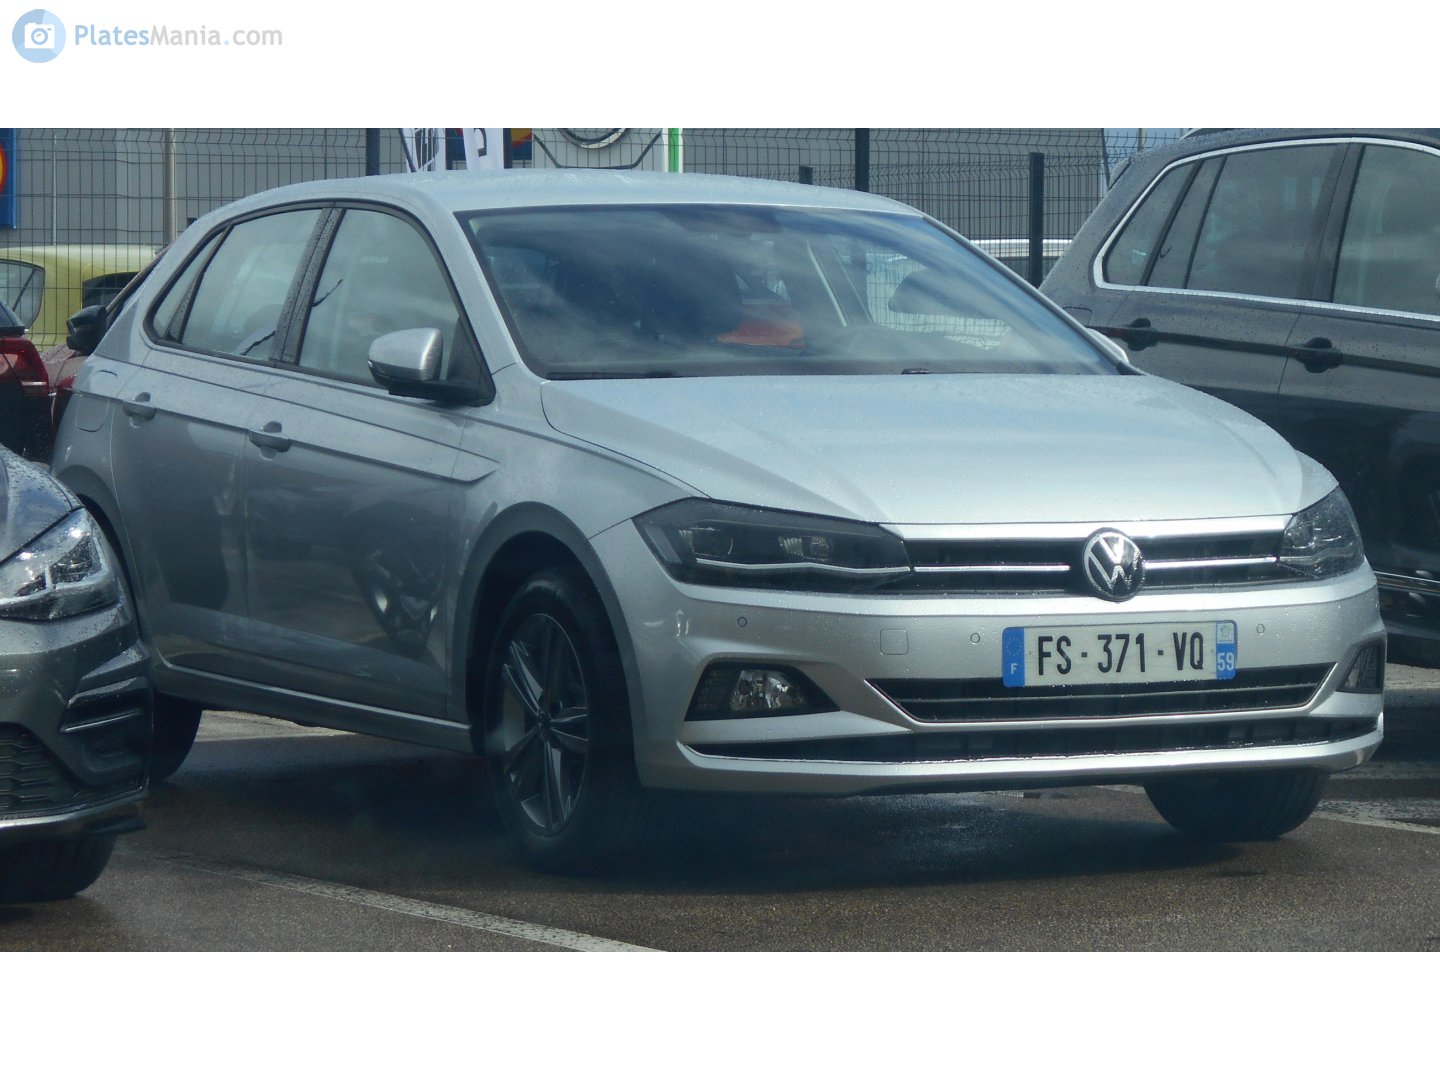licence plate: (992, 611, 1247, 695)
